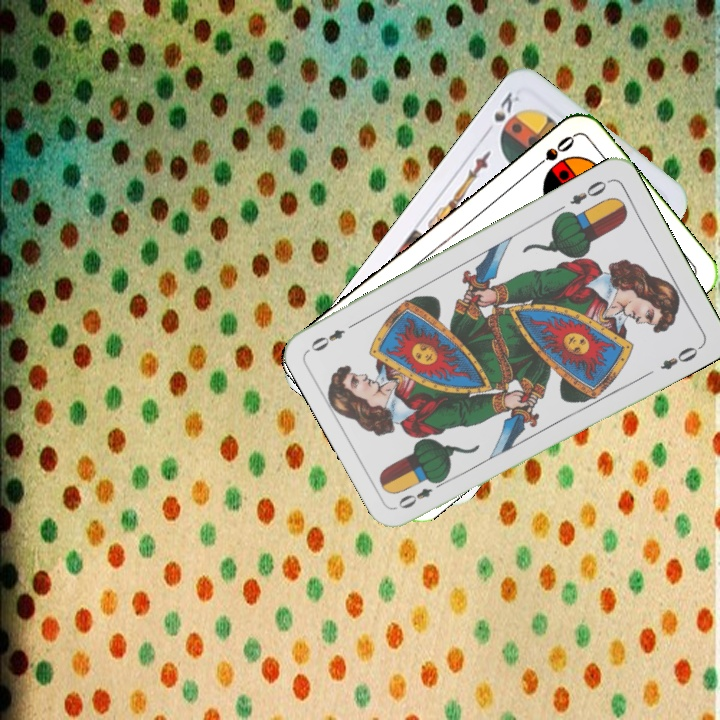EO: (394, 475, 448, 512), (566, 176, 613, 208)
SK: (489, 87, 525, 125)
SO: (527, 131, 577, 174)
